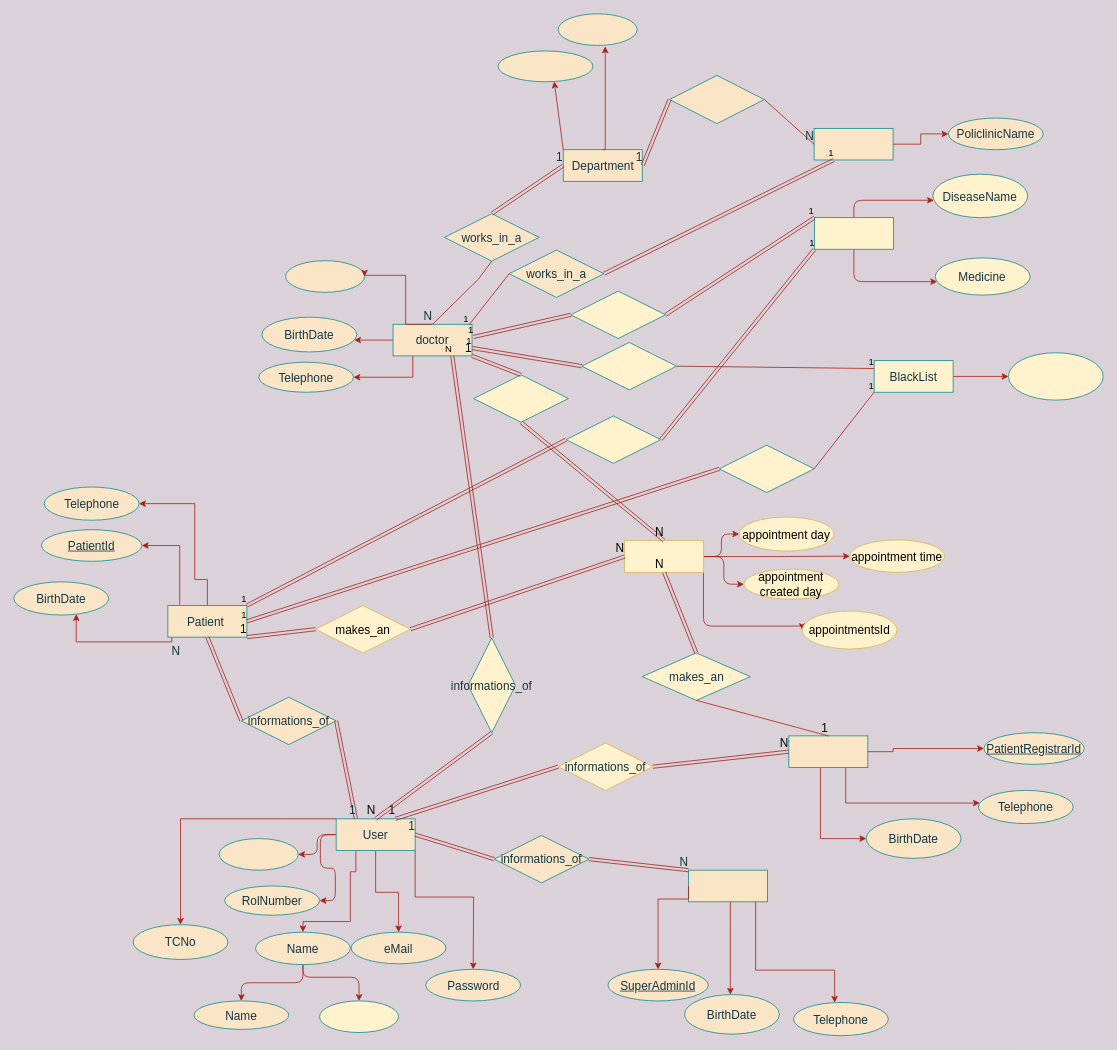
This 1117x1050 diagram has some shape labels left out. The shapes that lost their labels are listed below. From the top down, each one's box as (x1, y1, x2, y2) in pixels, then its label:
(557, 13, 637, 45): DepartmanId
(497, 50, 593, 82): DepartmanName
(669, 75, 764, 124): has_more_than_one
(813, 128, 893, 160): Policlinic
(814, 217, 893, 249): Prescribe
(285, 260, 365, 292): DoktorId
(570, 290, 666, 339): writes
(581, 342, 677, 390): counter
(1008, 352, 1103, 400): DeceptionCount
(473, 374, 568, 422): look_at_mutiple
(565, 415, 661, 463): taken_by
(719, 444, 814, 493): count
(624, 540, 704, 572): Appointments
(788, 735, 868, 767): PatientRegistrar
(218, 838, 298, 870): UserId
(688, 869, 767, 902): SuperAdmin
(319, 1000, 399, 1033): SurName
